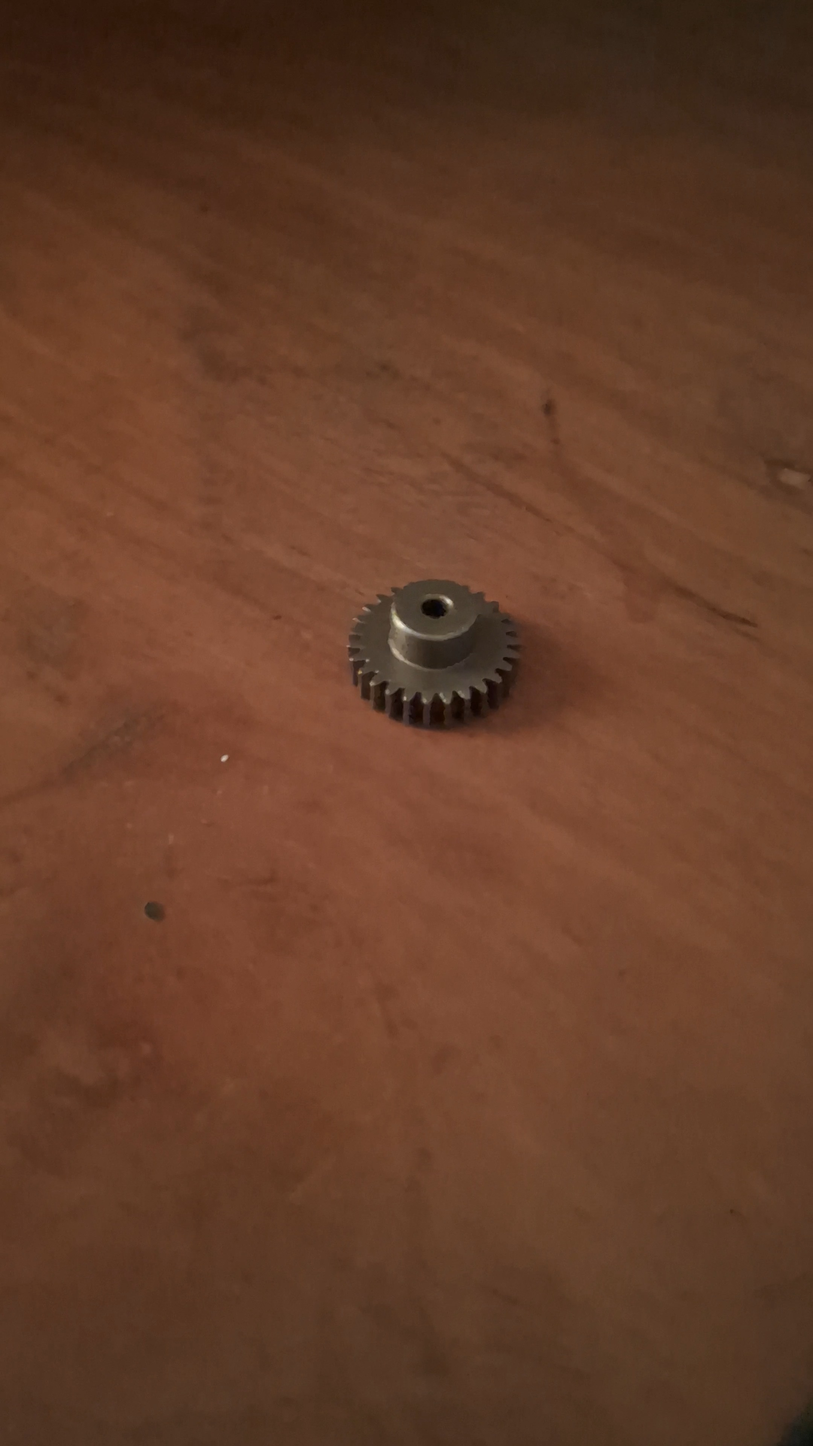spur gear: (349, 580, 519, 726)
